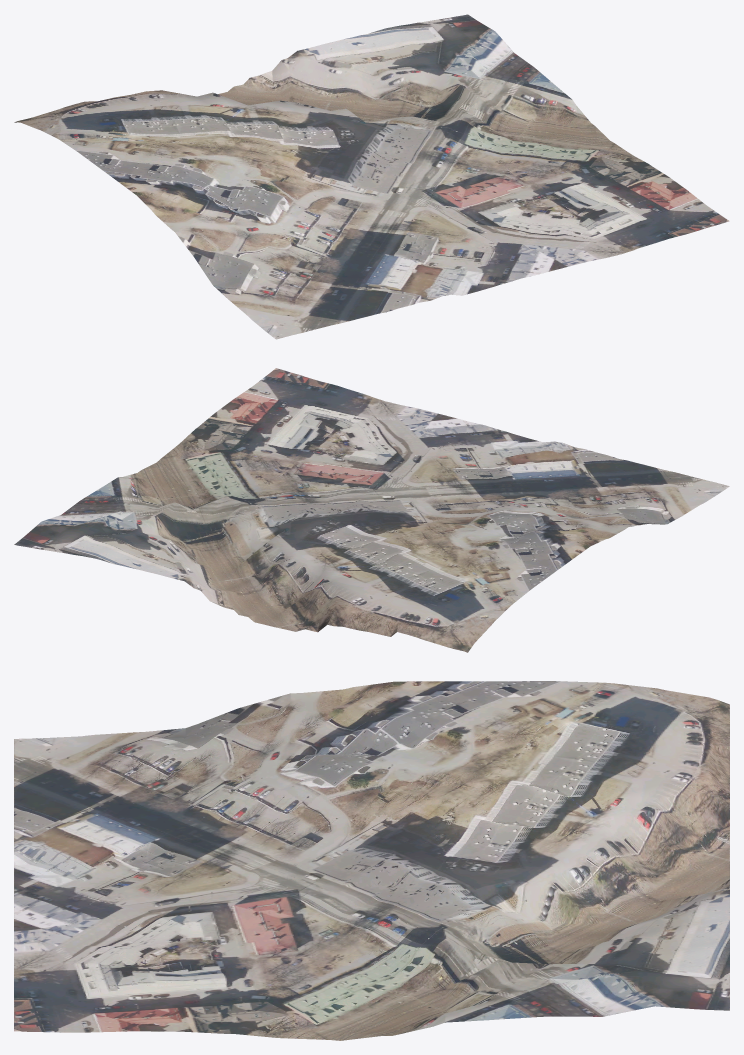
The model's file is CM_Terrain_24487592_6821636.fbx.
The picture shows the model from 3 angles, top to bottom: view 1: azimuth 30°, elevation 25°; view 2: azimuth 150°, elevation 25°; view 3: azimuth 270°, elevation 25°; orthographic projection. The views are drawn at different scales.
Visible parts, largest first — view 1: CM_Terrain_24487592_6821636_LOD0; view 2: CM_Terrain_24487592_6821636_LOD0; view 3: CM_Terrain_24487592_6821636_LOD0.
Part boxes in pixels (<box>): CM_Terrain_24487592_6821636_LOD0: <box>14,14,729,339</box>; CM_Terrain_24487592_6821636_LOD0: <box>14,368,729,652</box>; CM_Terrain_24487592_6821636_LOD0: <box>14,681,729,1040</box>.
Size of what is drawn, in the model's own units: 205 by 19 by 205.
